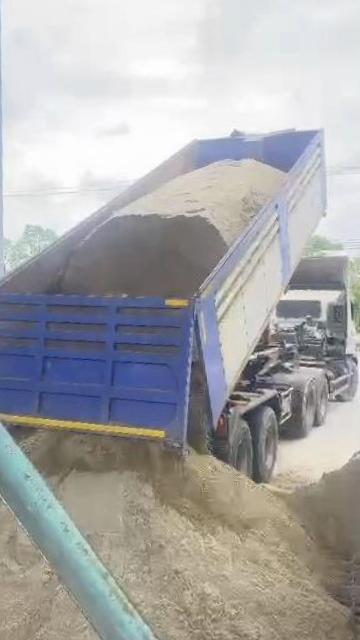sand: (26, 345, 350, 640), (48, 159, 285, 295), (0, 473, 137, 640), (264, 454, 360, 562)
